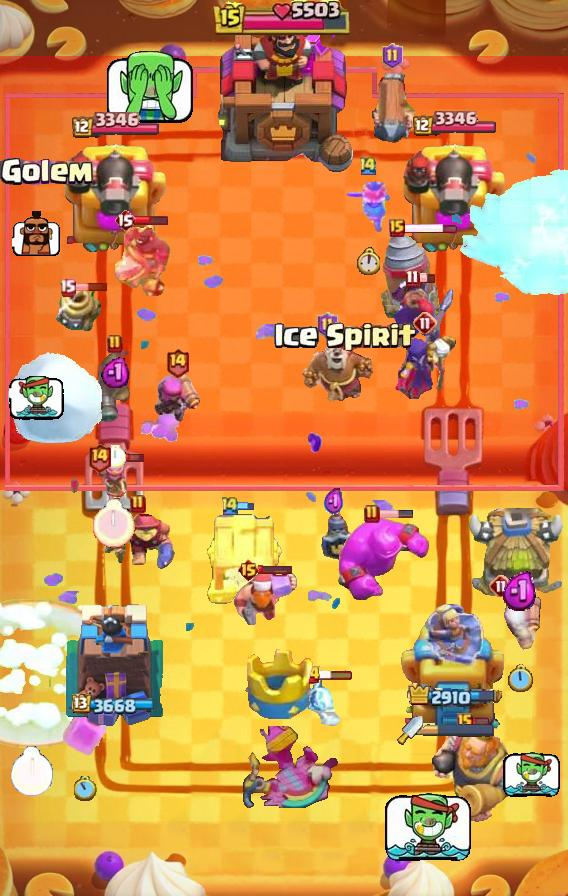axe: (393, 333, 457, 399)
bar: (398, 595, 508, 731)
bat: (303, 676, 345, 728)
battle-healer: (368, 73, 416, 149)
bomb: (204, 511, 284, 605)
bomb-tower: (96, 346, 134, 424)
cannon: (96, 457, 132, 505)
clock: (213, 0, 355, 38)
clone: (335, 516, 431, 602)
electro-spirit: (501, 571, 539, 612), (101, 356, 129, 389), (324, 487, 344, 517)
elixir: (10, 746, 54, 798), (93, 499, 135, 548), (507, 664, 533, 694), (356, 247, 380, 275), (74, 775, 97, 800), (105, 445, 126, 469)
elixir-collector: (299, 330, 377, 406)
elixir-golem-big: (391, 275, 455, 355)
emote: (402, 221, 457, 234), (110, 452, 146, 465), (318, 669, 354, 681), (135, 214, 170, 226), (258, 565, 293, 576), (378, 509, 414, 519), (73, 282, 108, 292), (416, 273, 436, 284), (237, 500, 255, 512), (470, 717, 489, 728)
fireball: (100, 510, 176, 572)
freeze: (106, 225, 172, 301)
giant-skeleton: (424, 722, 532, 826)
goblin-drill: (53, 283, 105, 335)
hog-rider: (344, 180, 392, 234)
king-tower: (211, 7, 357, 181)
king-tower-bar: (423, 723, 495, 737)
knight-evolution: (62, 703, 108, 756)
magic-archer: (381, 231, 441, 325)
mega-knight: (456, 166, 567, 302)
mighty-miner: (234, 568, 300, 632)
phoenix-big: (0, 599, 128, 749)
prince: (466, 508, 568, 604)
princess: (312, 501, 356, 561)
queen-tower: (61, 599, 166, 731)
selected: (69, 112, 159, 140), (408, 683, 498, 710), (410, 111, 496, 138), (71, 694, 156, 716)
skeleton: (103, 50, 199, 126), (382, 792, 472, 864), (502, 752, 560, 798), (8, 376, 63, 420), (11, 211, 60, 258)
text: (165, 347, 190, 378), (87, 443, 112, 474), (413, 311, 437, 335), (489, 574, 513, 598), (237, 558, 260, 582), (382, 43, 403, 69), (318, 312, 339, 338), (114, 208, 136, 232), (358, 155, 378, 177), (220, 495, 240, 517), (303, 665, 322, 685), (59, 279, 76, 298), (107, 334, 123, 354), (130, 494, 146, 514), (364, 504, 380, 524), (389, 219, 405, 237), (457, 713, 473, 731), (405, 269, 419, 287)
tombstone: (498, 590, 542, 652), (153, 371, 202, 423)
tower-bar: (60, 138, 168, 256), (399, 138, 507, 256)
wall-breaker: (5, 350, 102, 445)
